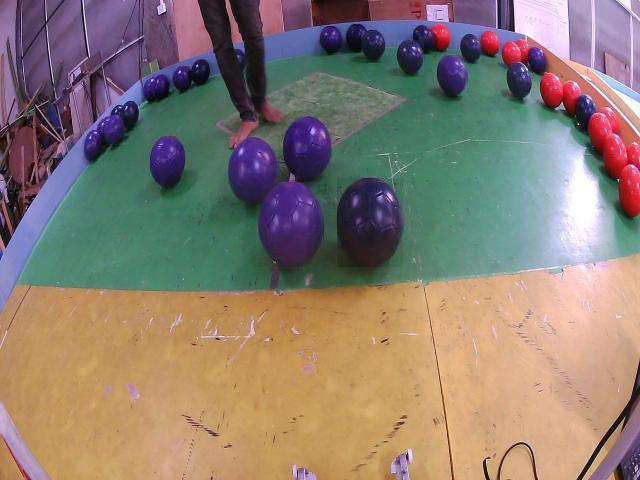jambhalya: (257, 183, 323, 269), (228, 137, 278, 203), (283, 116, 331, 181), (150, 136, 185, 186), (437, 55, 467, 96), (105, 115, 125, 145), (320, 27, 341, 54), (85, 130, 103, 160), (528, 46, 547, 74), (173, 66, 191, 91), (153, 75, 170, 101), (97, 119, 109, 143), (143, 78, 155, 102)
kaalyya: (337, 178, 403, 267), (506, 61, 531, 99), (397, 40, 424, 75), (576, 93, 597, 132), (361, 30, 385, 61), (460, 34, 481, 62), (414, 25, 434, 53), (346, 25, 366, 51), (191, 58, 210, 85), (121, 102, 139, 129), (235, 48, 246, 71), (111, 105, 122, 115)
